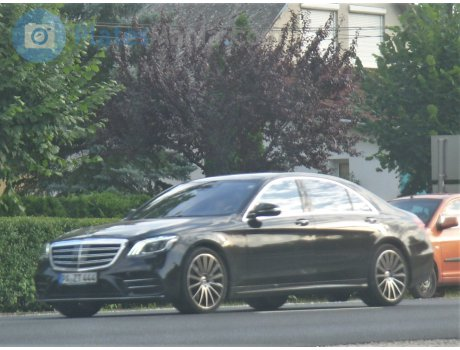License Plates: (64, 274, 97, 283)
